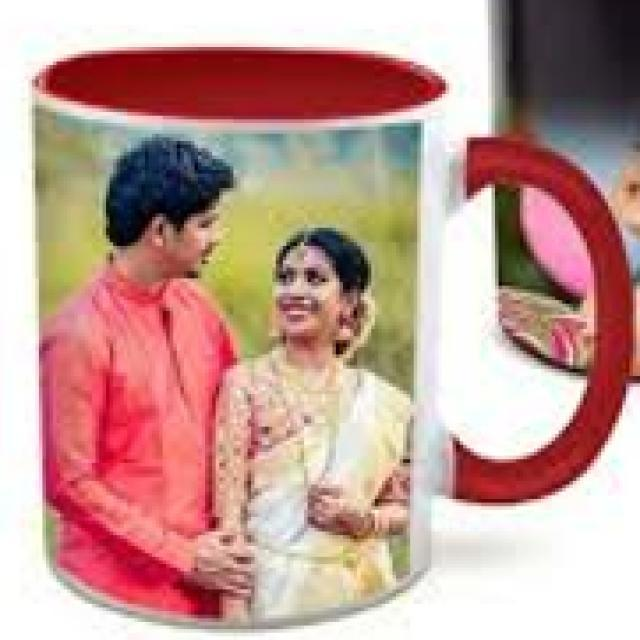taza: (29, 44, 632, 630)
